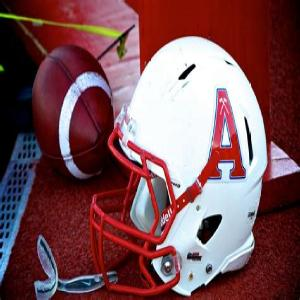Rugby: (32, 43, 116, 182)
